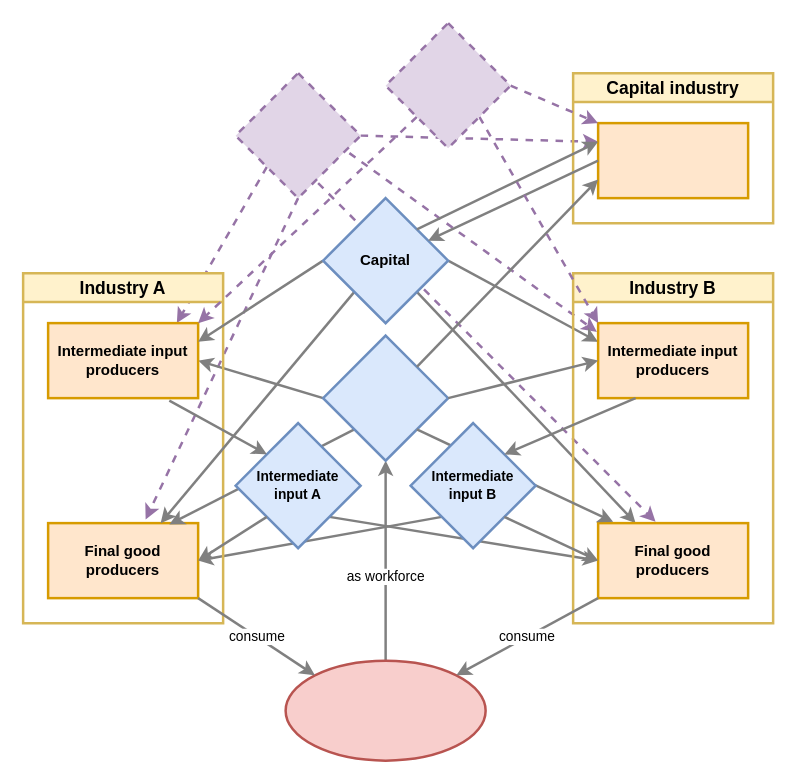
Image size: 795x783. Some labels were removed from this diagram. Each missing label, with the centre of its shape:
"Capital good producers" belongs at pixel 672 160.
"Energy" belongs at pixel 297 135.
"Households" belongs at pixel 385 710.
"Labour" belongs at pixel 385 397.
"Raw Materials" belongs at pixel 447 85.
